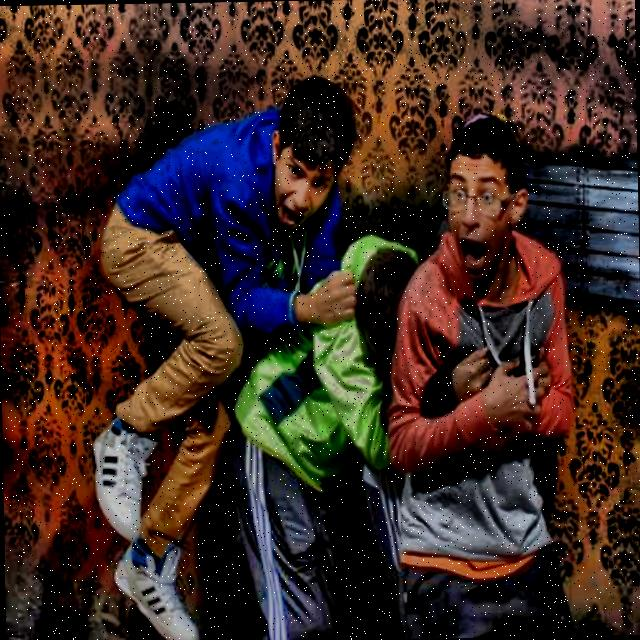fear: (432, 104, 535, 282), (262, 75, 365, 229)
